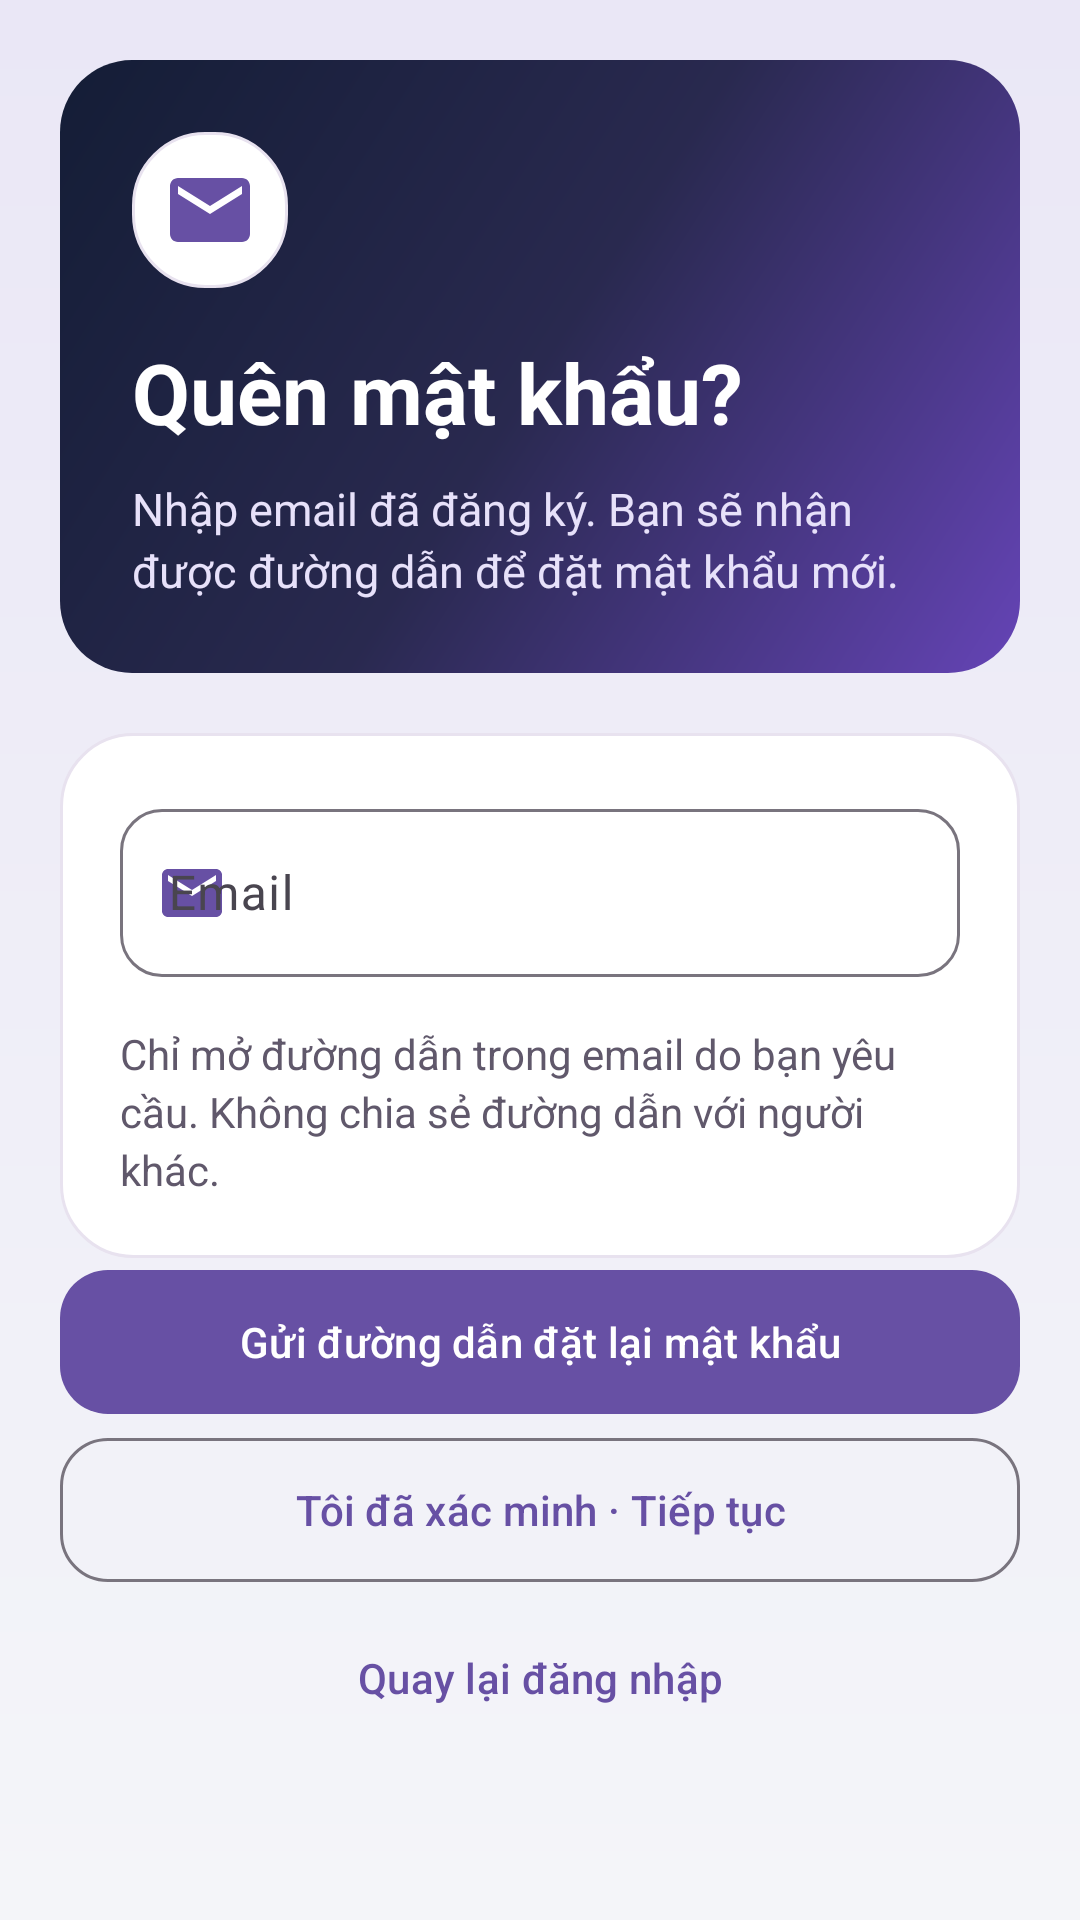

Screen size 1080×1920. Icon name, then its box in pixels as (x1, y1, x2, y2):
email: (132, 132, 288, 288)
